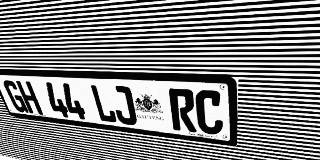4: (59, 83, 87, 120), (42, 82, 70, 118)
C: (195, 90, 223, 136)
G: (2, 80, 29, 113)
H: (16, 81, 43, 115)
J: (109, 85, 138, 126)
L: (89, 84, 118, 123)
R: (168, 88, 197, 132)
